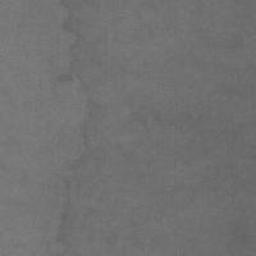Water spot: (52, 0, 256, 256)
